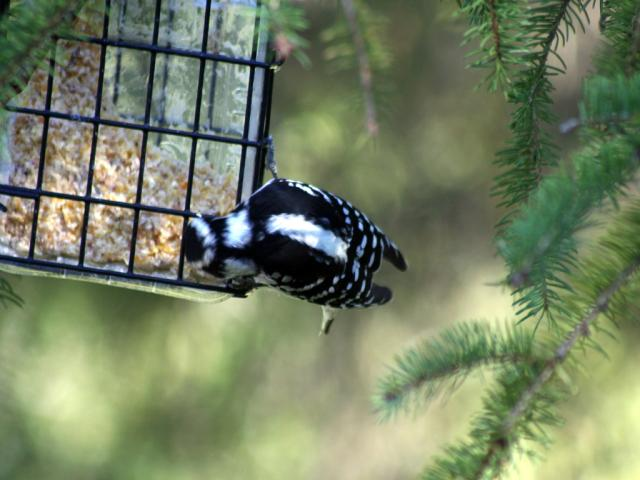Bird: (186, 136, 408, 335)
